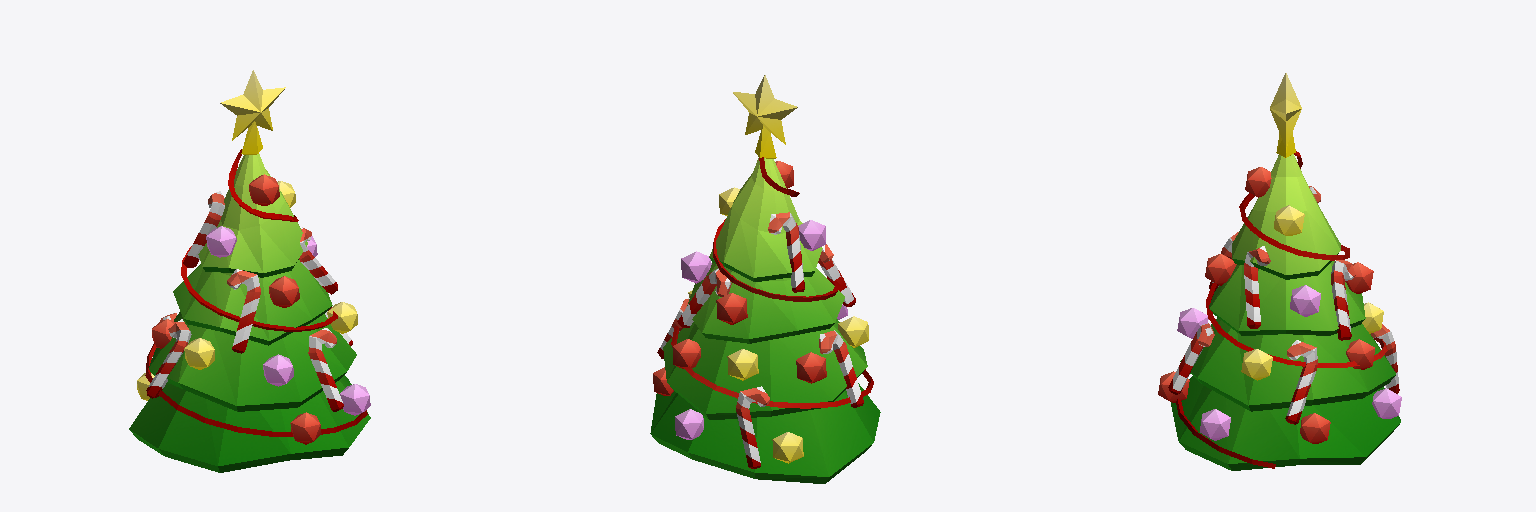
3 views of the same model, side by side, from view 1: azimuth 30°, elevation 25°; view 2: azimuth 150°, elevation 25°; view 3: azimuth 270°, elevation 25° (orthographic).
Visible parts, largest first — view 1: Christmas_Tree_Mesh; view 2: Christmas_Tree_Mesh; view 3: Christmas_Tree_Mesh.
Part boxes in pixels (bbox=[...]): Christmas_Tree_Mesh: bbox=[129, 70, 370, 472]; Christmas_Tree_Mesh: bbox=[650, 75, 880, 483]; Christmas_Tree_Mesh: bbox=[1158, 73, 1401, 470].
Size of the model in its own units: 2.1 by 3.6 by 2.16.
Materials: 1 (1 with a texture image).